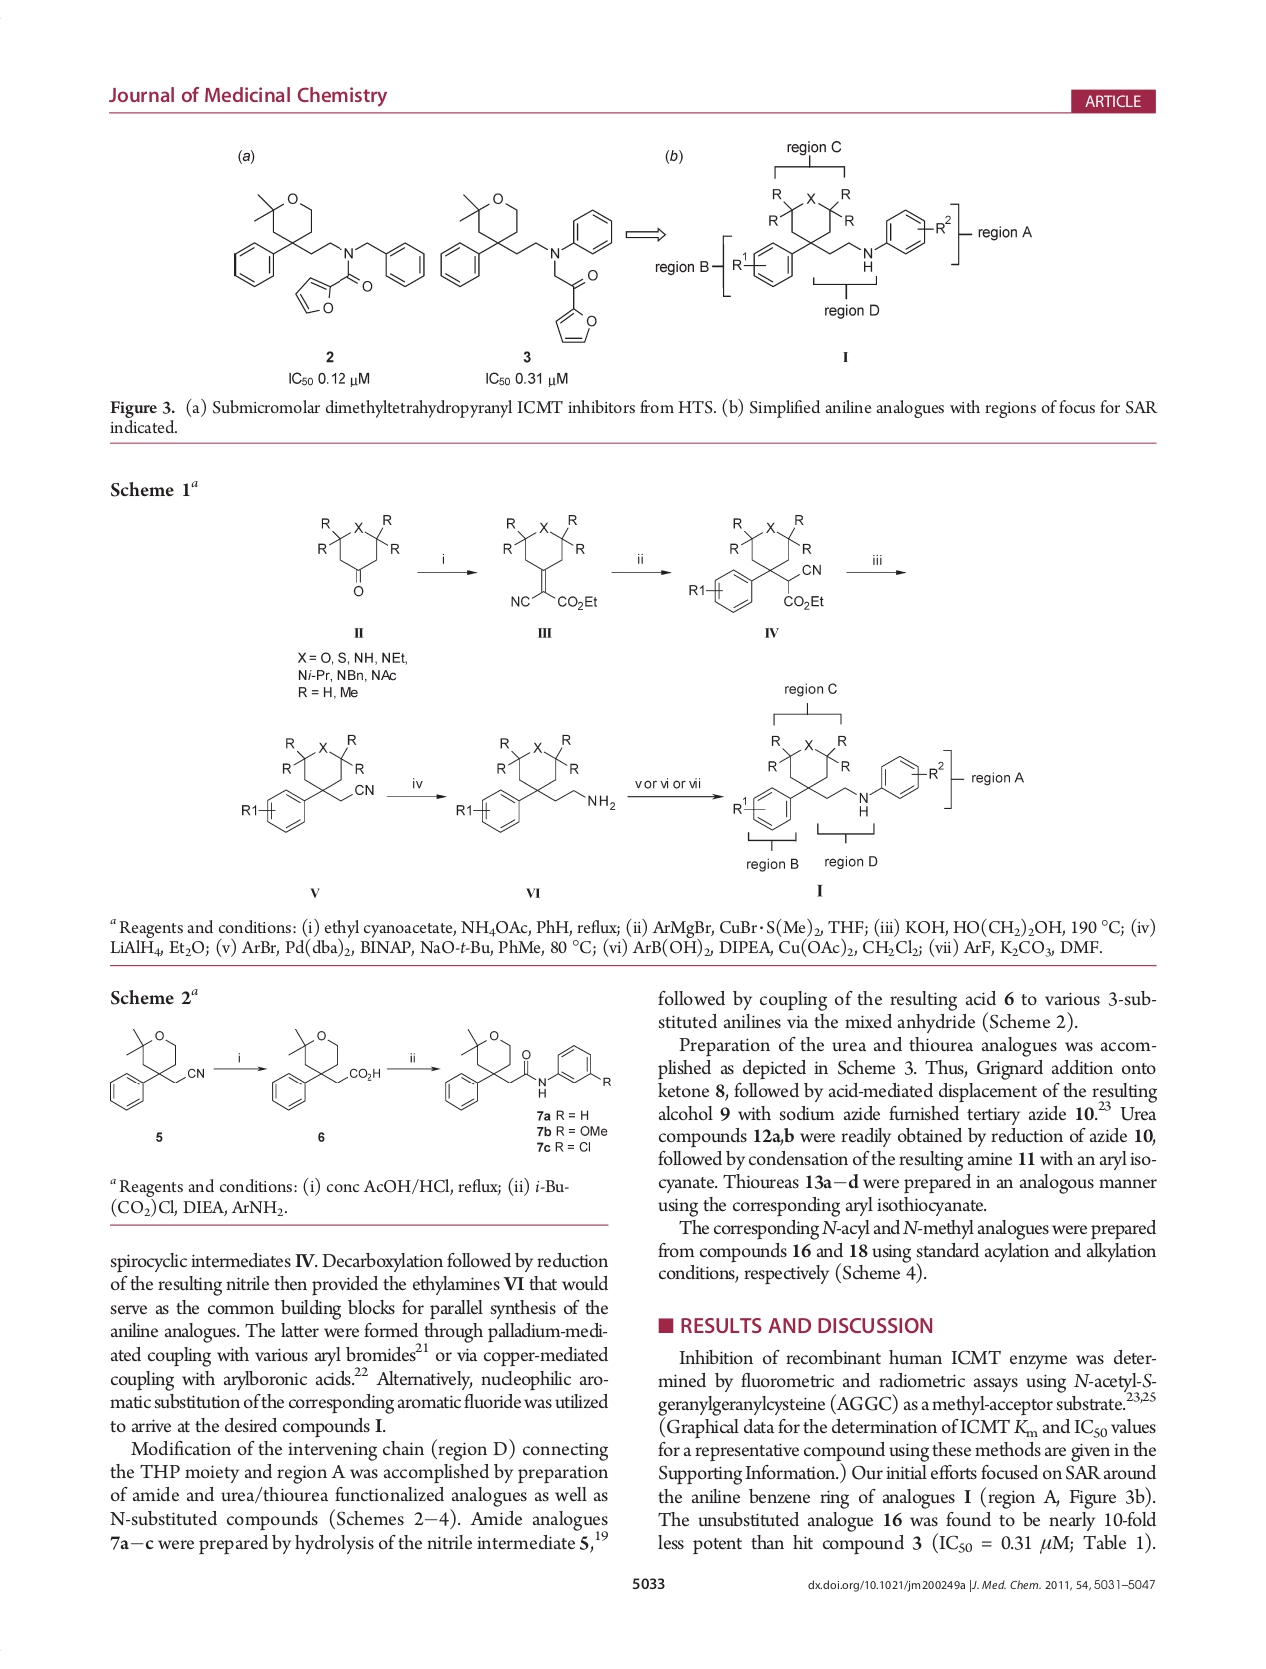exist_molecular: (436, 190, 617, 346), (230, 188, 430, 315), (729, 186, 953, 290), (731, 733, 946, 833), (451, 733, 617, 835), (237, 730, 382, 836), (443, 1024, 614, 1112), (685, 509, 826, 614), (492, 507, 605, 613), (266, 1025, 382, 1110), (313, 505, 402, 602), (105, 1029, 206, 1114)
